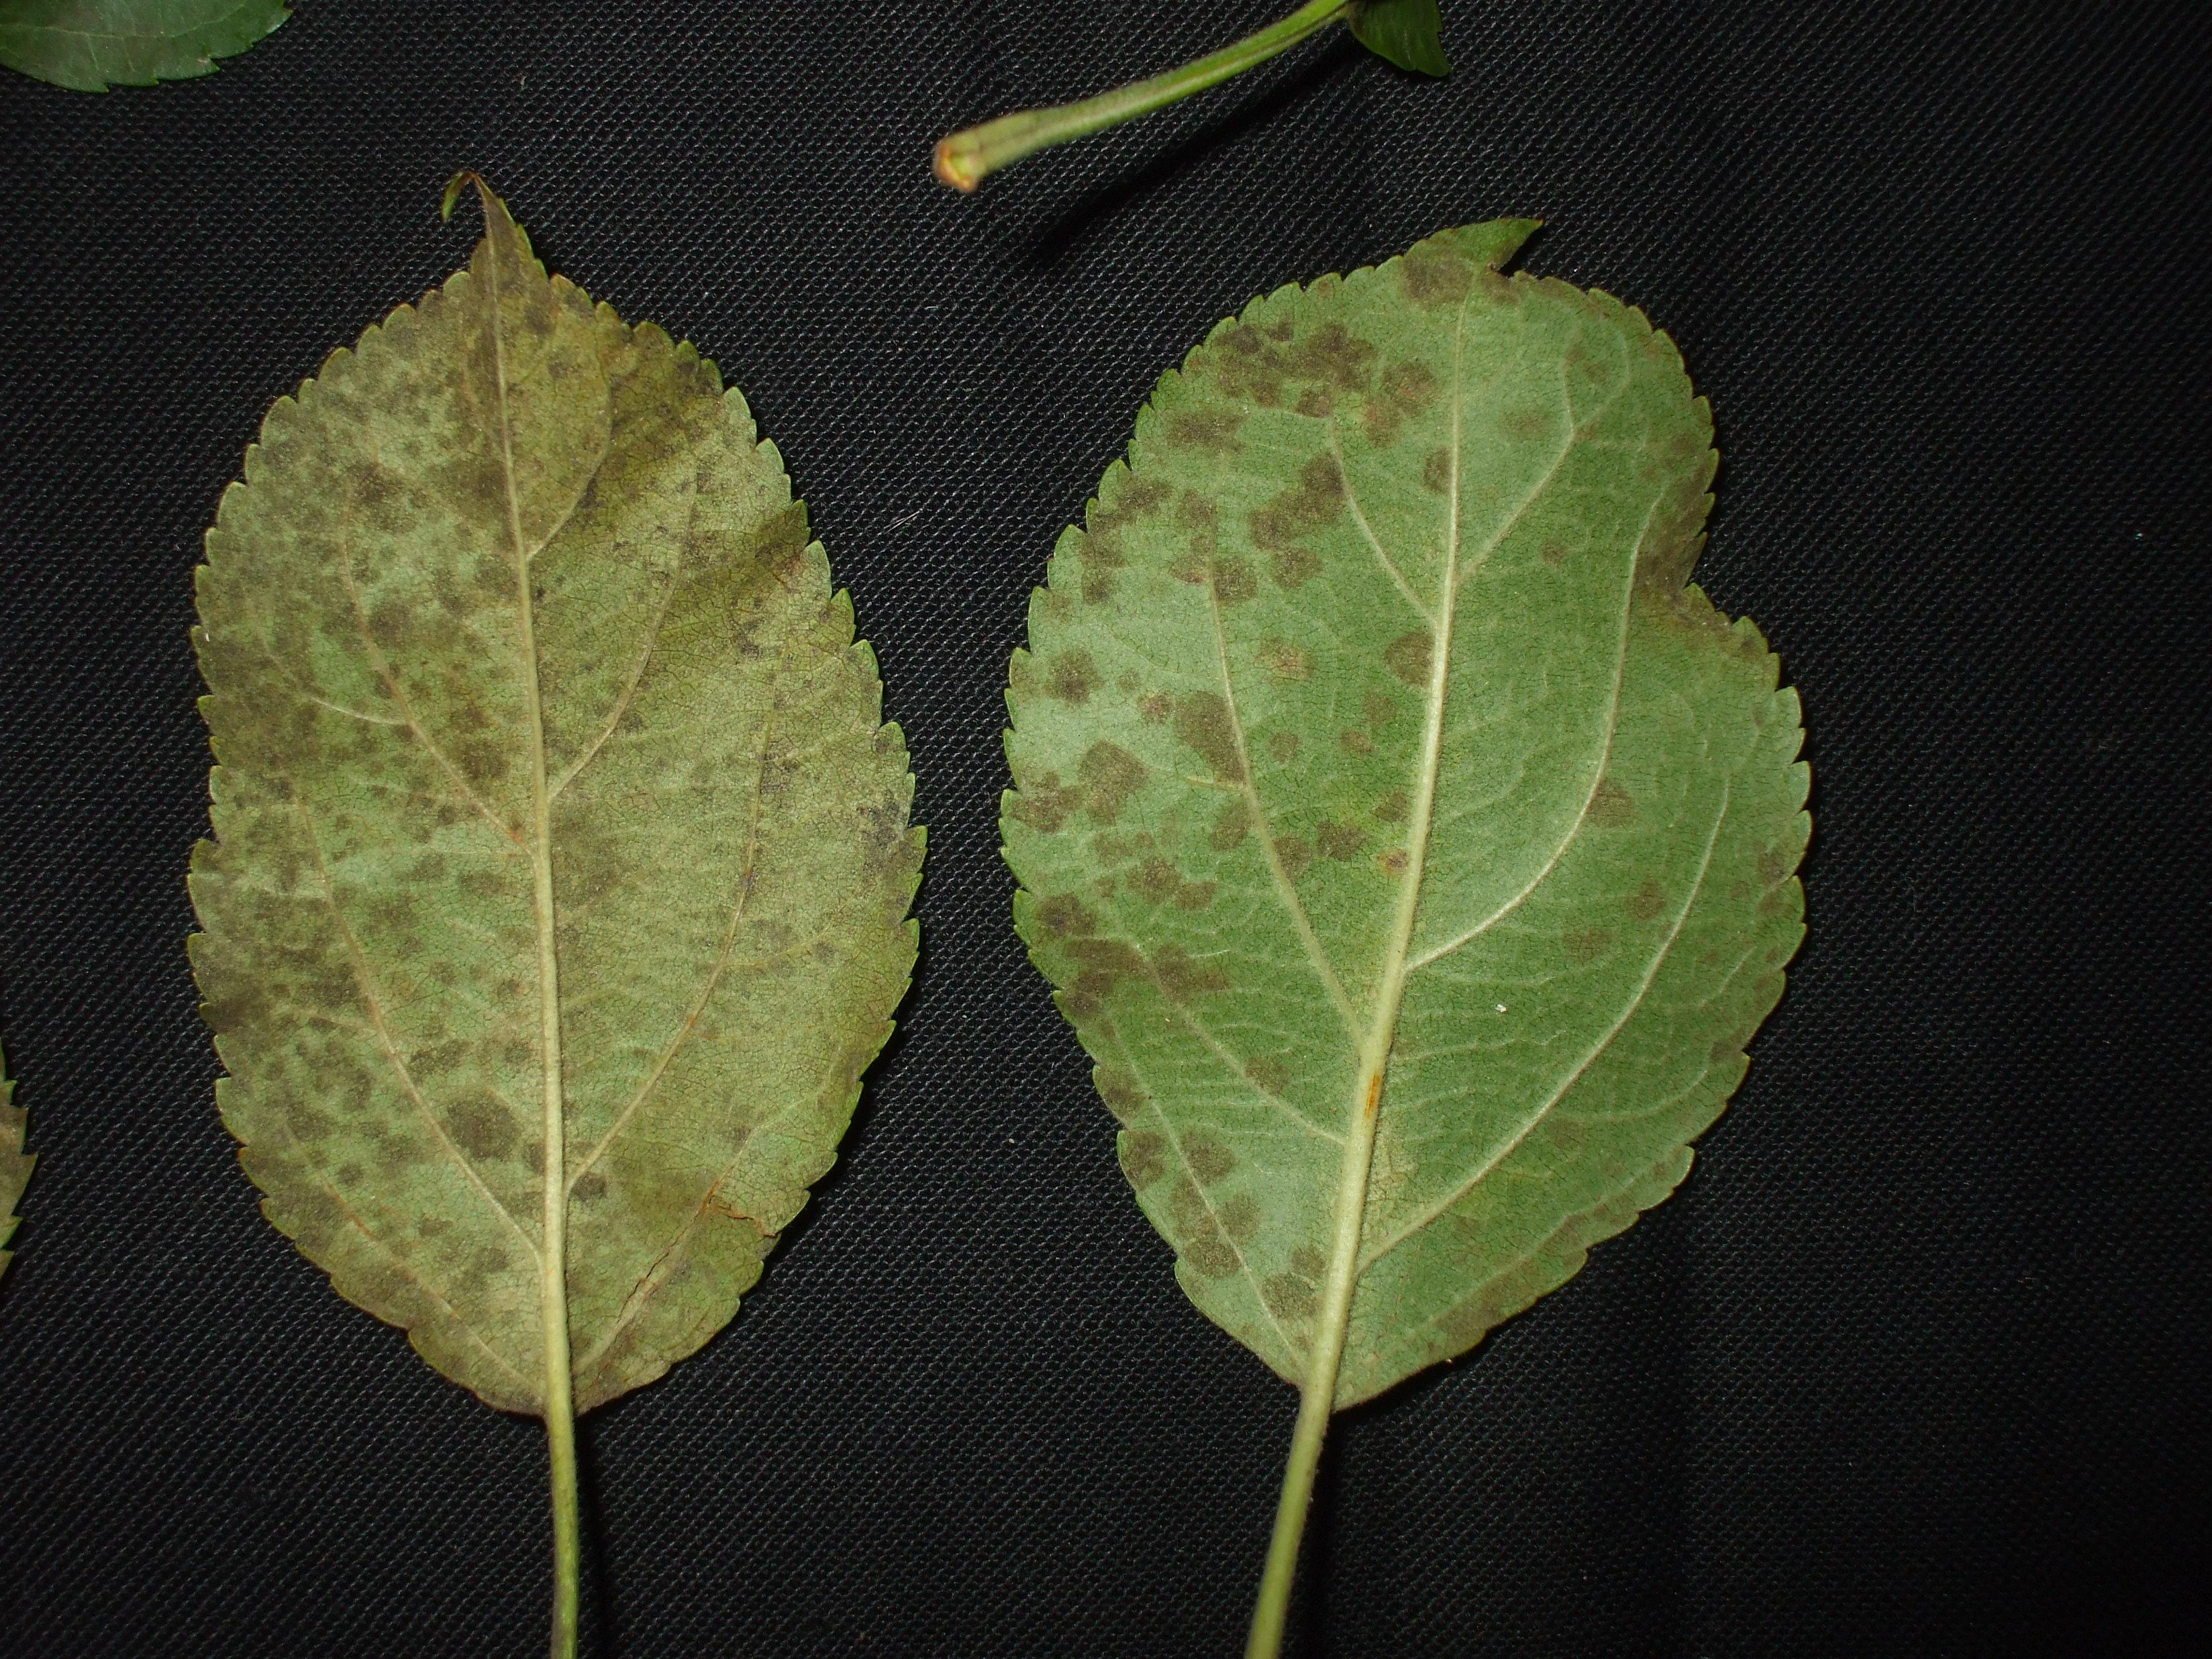Apple Scab Leaf: (986, 171, 1843, 1453), (146, 164, 968, 1488)
